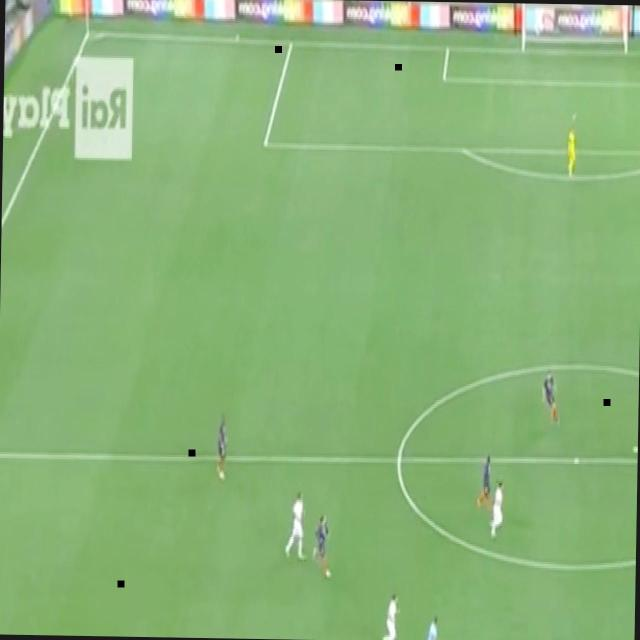ball: (633, 440, 638, 455)
player-white: (282, 488, 308, 564), (311, 511, 335, 581), (474, 453, 496, 516), (214, 408, 232, 484), (540, 367, 562, 427), (379, 589, 403, 640), (488, 478, 506, 542), (418, 611, 448, 640), (565, 122, 579, 181)
